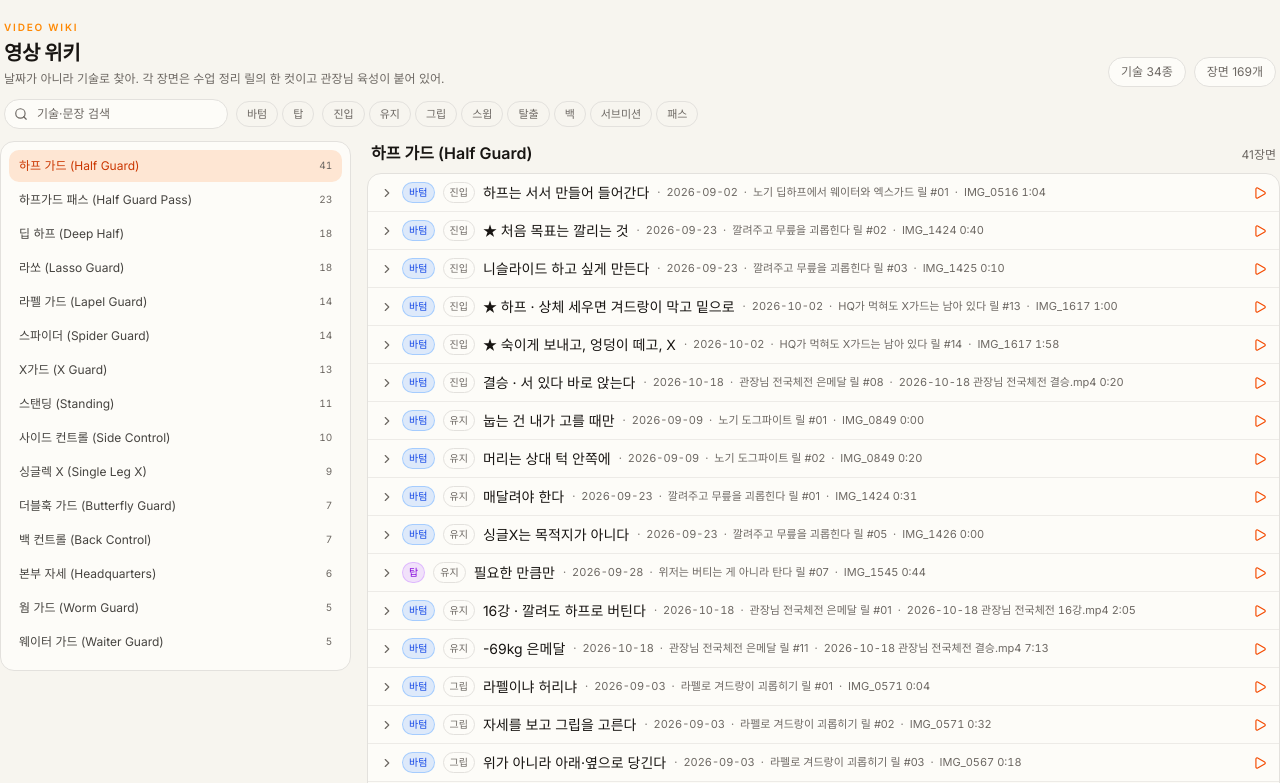
VideoWikiView › 없는 말을 검색하면 빈 상태를 알린다
Type "zzzz없는말zzzz" into the field named "장면 검색".
click(116, 114); type("zzzz없는말zzzz")  # box [4, 99, 228, 129]
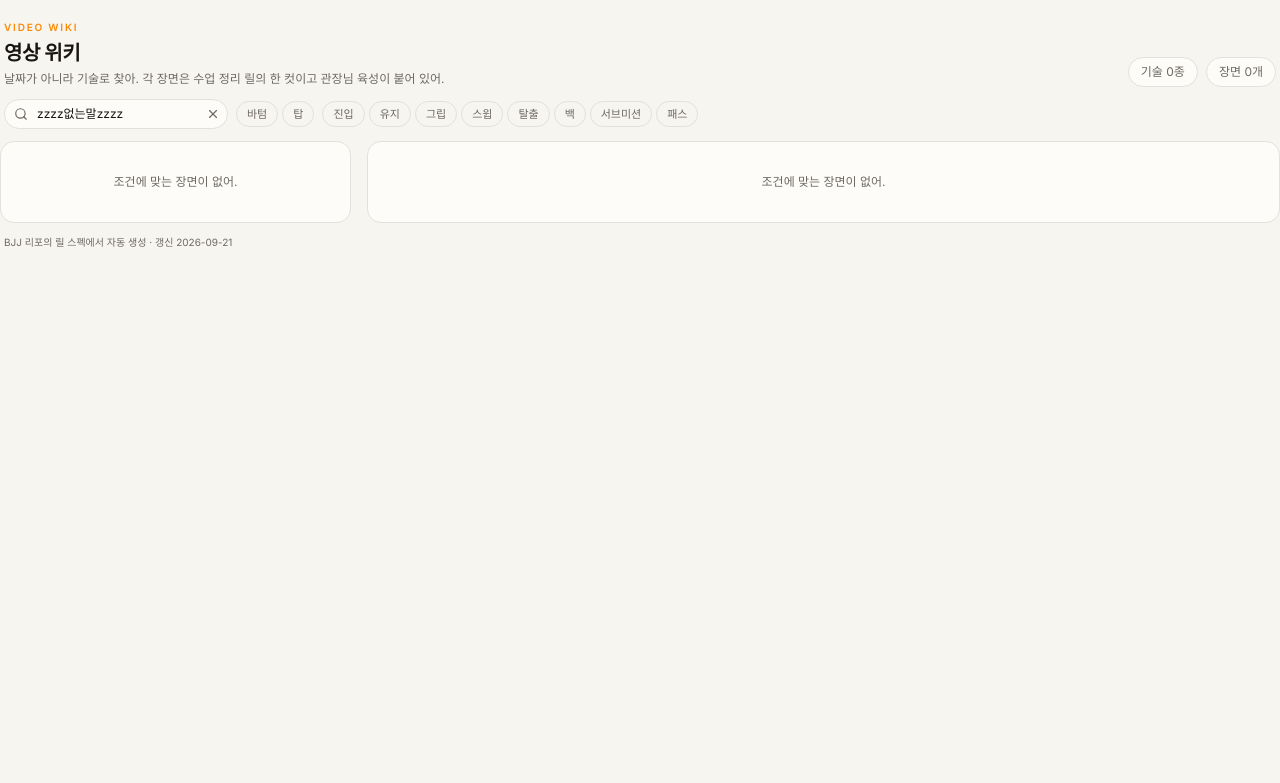
Result: the 1st text "조건에 맞는 장면이 없어." is shown at [114, 174, 238, 189]
